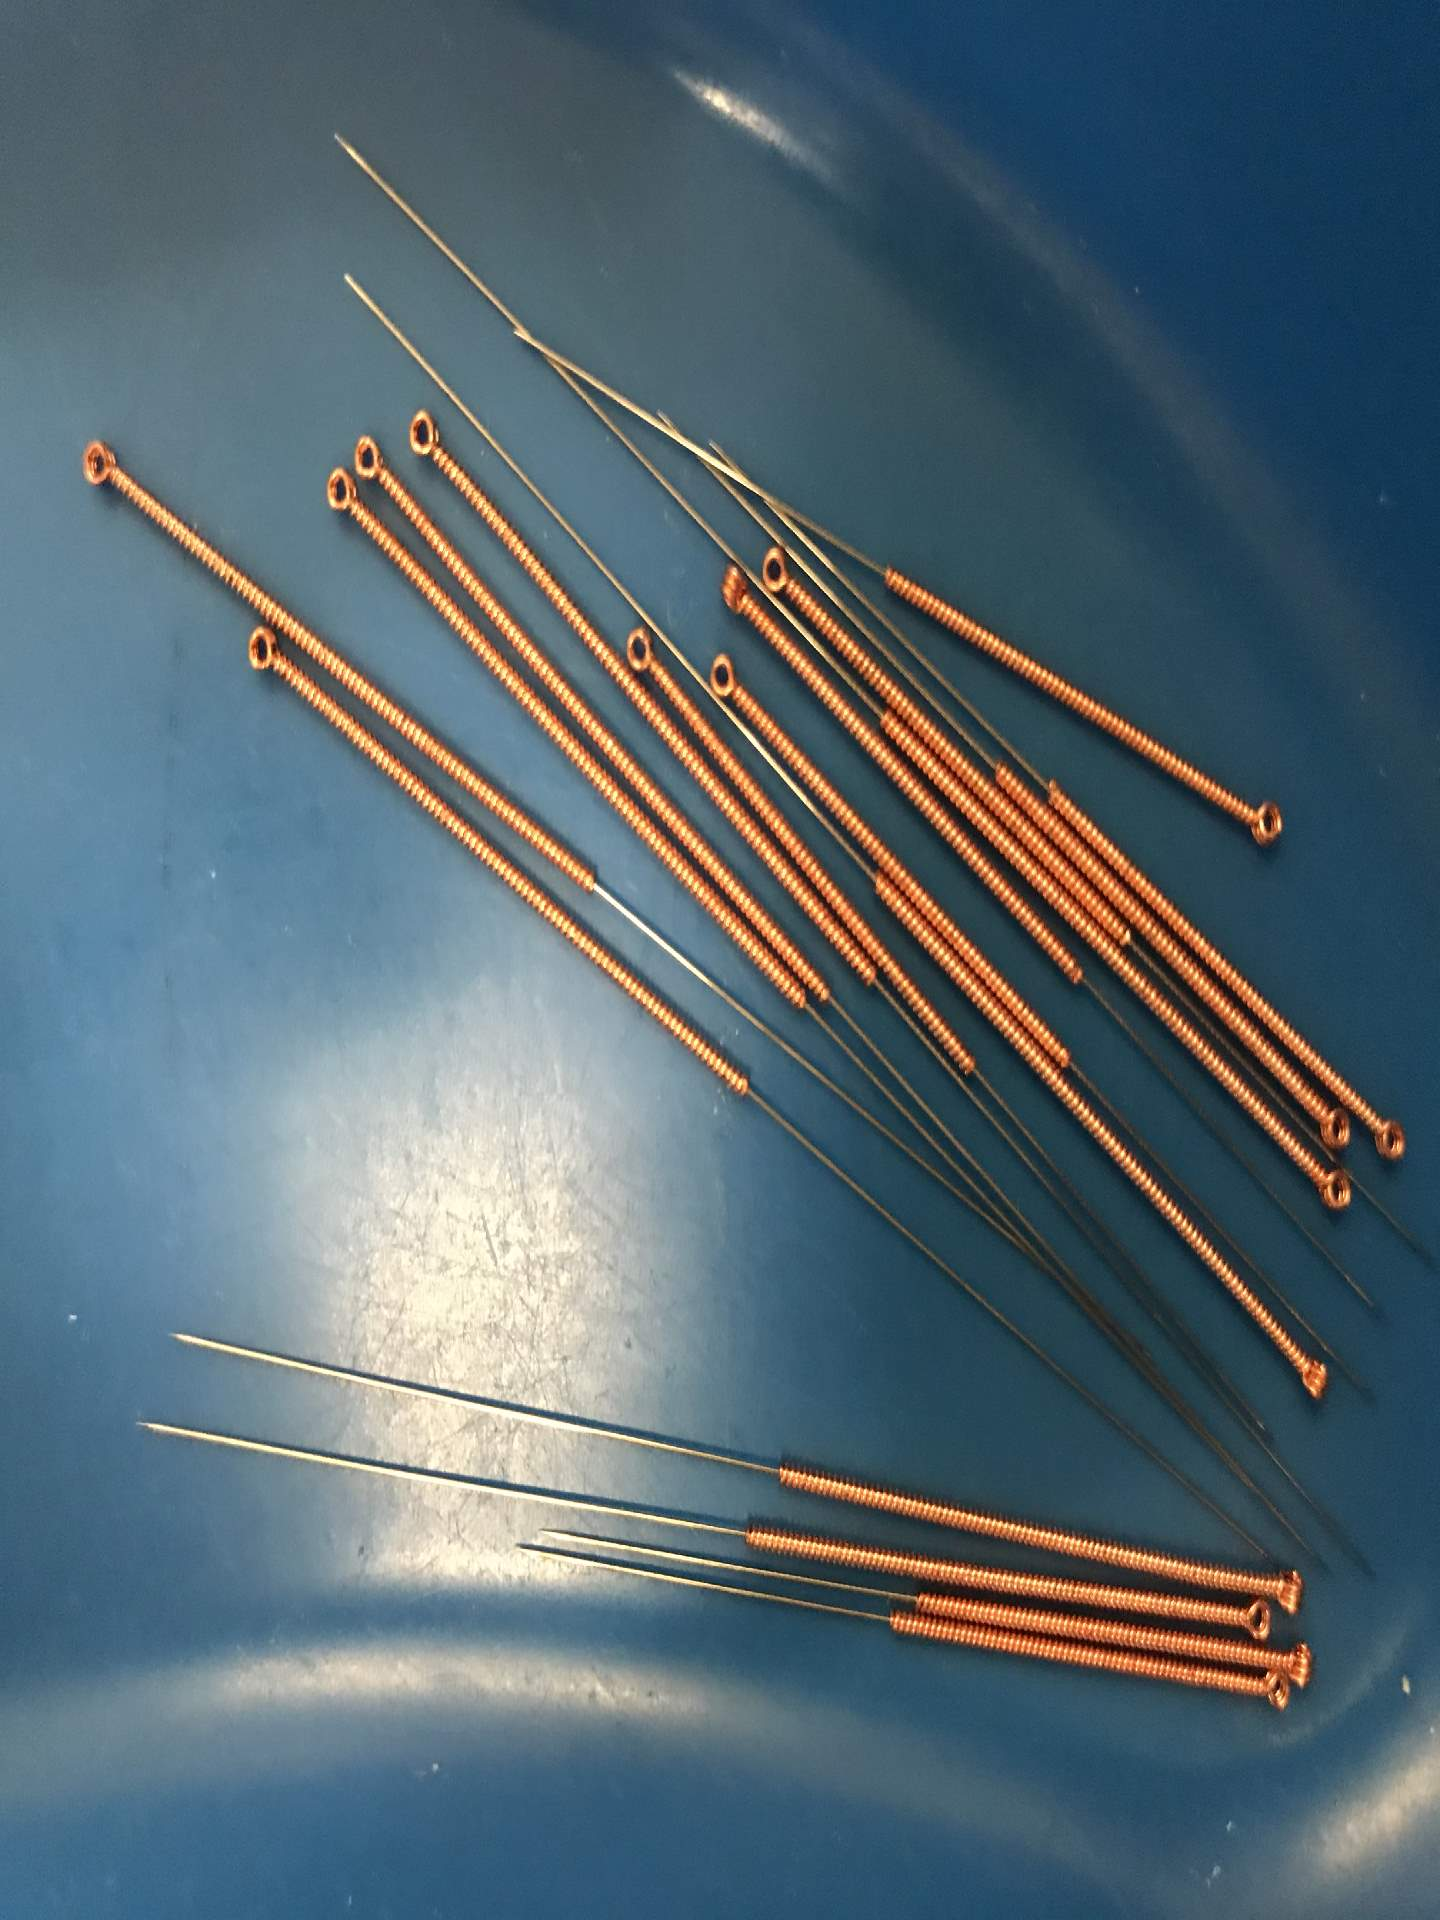needle: (1230, 785, 1296, 857), (1280, 1339, 1345, 1414), (65, 429, 132, 500), (399, 396, 457, 478), (1361, 1101, 1422, 1172), (1302, 1160, 1364, 1223), (696, 646, 753, 714), (756, 537, 811, 608), (706, 555, 759, 621), (1268, 1556, 1317, 1621), (241, 621, 287, 686), (1224, 1590, 1277, 1648), (1274, 1634, 1324, 1689), (352, 423, 393, 488), (1246, 1665, 1292, 1722), (1311, 1101, 1354, 1157), (622, 618, 659, 679), (321, 463, 357, 522)
